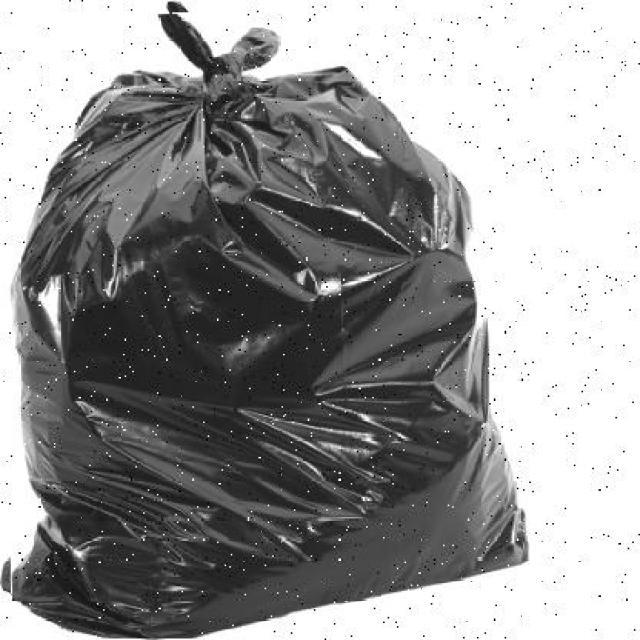waste: (0, 6, 532, 638)
